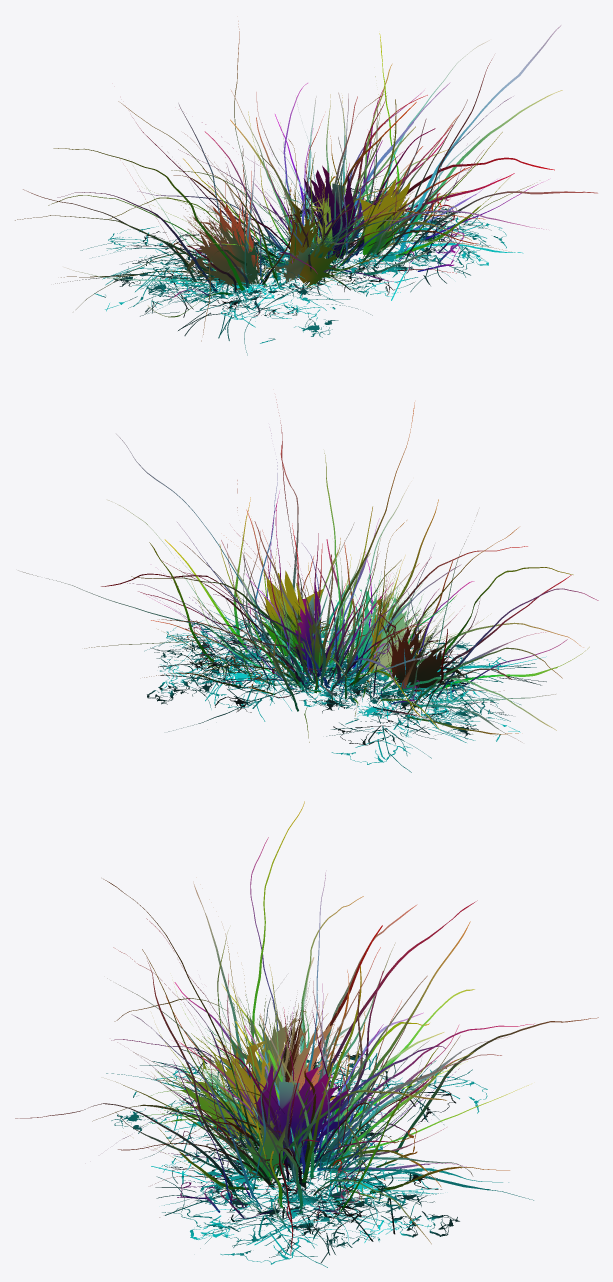
File: Wild_Grass_vczndjqja_Raw_vczndjqja_VarF_LOD0.fbx
3 renders of one model, top to bottom at view 1: azimuth 30°, elevation 25°; view 2: azimuth 150°, elevation 25°; view 3: azimuth 270°, elevation 25°, orthographic. The views are drawn at different scales.
Visible parts, largest first — view 1: _44vk_VarF_High; view 2: _44vk_VarF_High; view 3: _44vk_VarF_High.
Boxes of the visible parts, x1,y1,x2,y2 form: _44vk_VarF_High: (15,21,597,355); _44vk_VarF_High: (18,399,598,772); _44vk_VarF_High: (15,801,598,1267).
Bounding box in the file's own units: 122 × 52.57 × 98.8.
